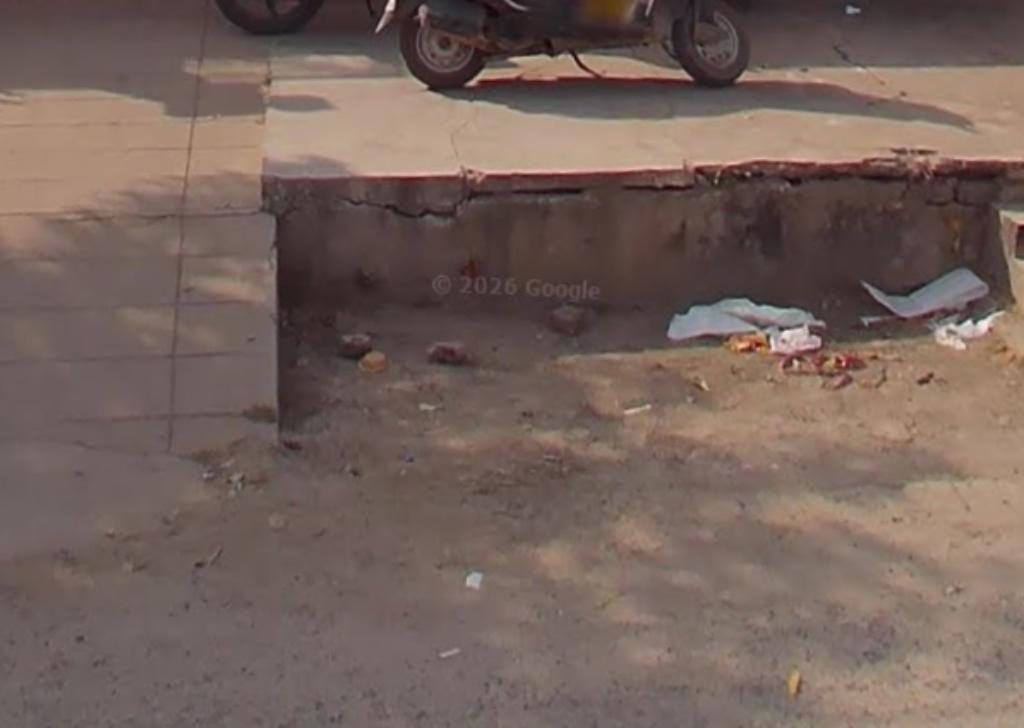garbage: (661, 280, 835, 364)
